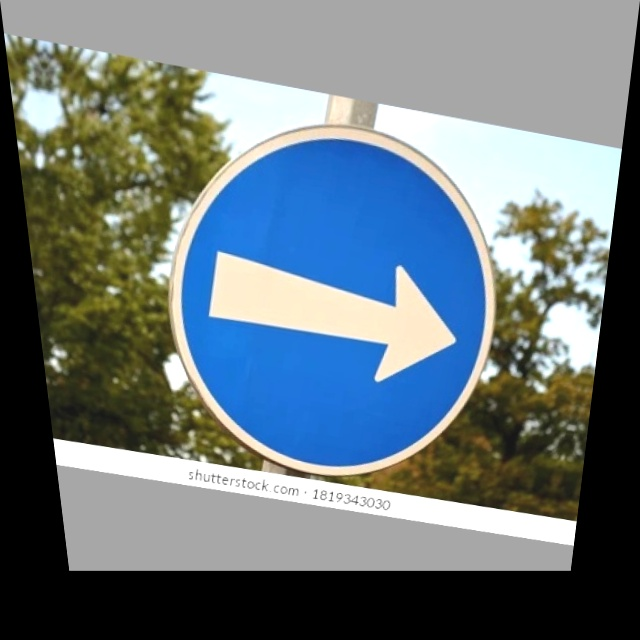Compulsory_Turn_Right: (135, 96, 530, 486)
